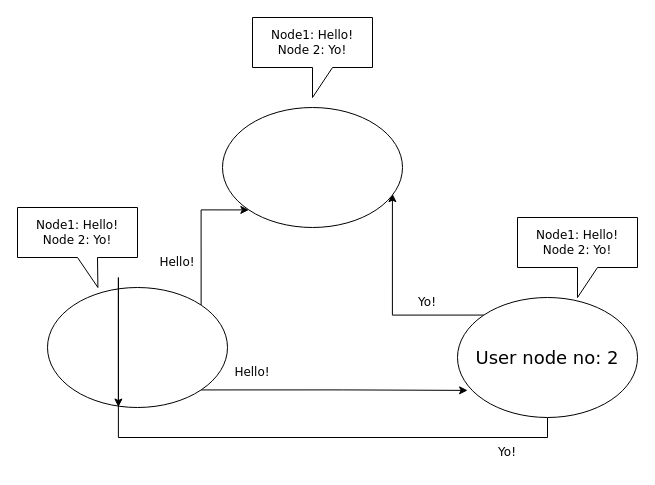
The diagram is 655 pixels wide and 485 high, and some of its shapes have lost their labels. Each missing label, with the centre of its shape:
"User node no: 1" goes at point 137,347.
"User node with Host role" goes at point 312,167.
